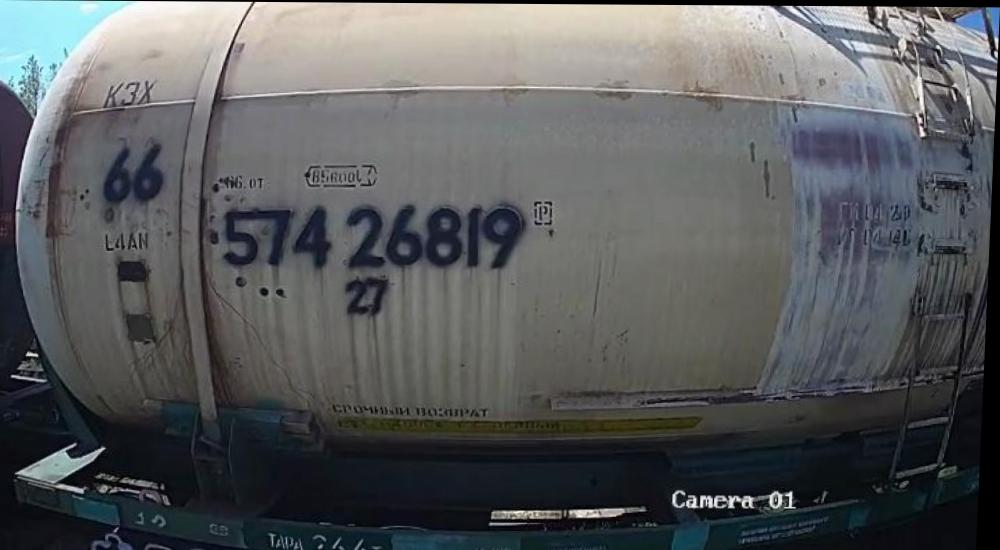Wagon-number: (218, 199, 534, 274)
